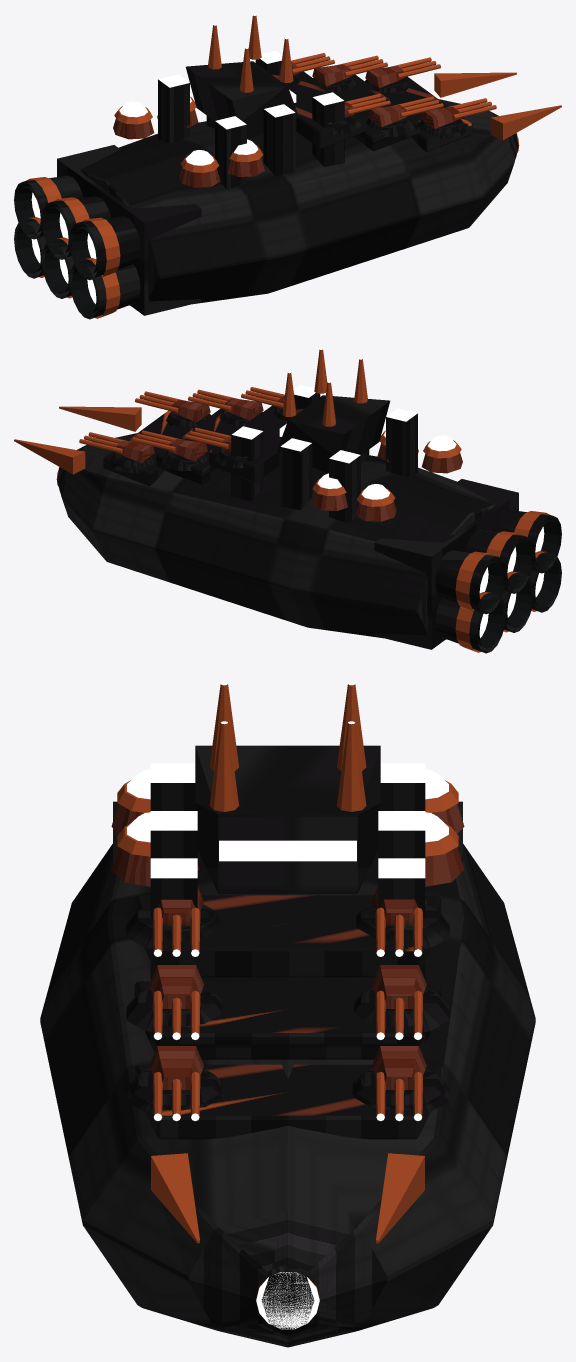
Rendered from dreadnought.glb.
The picture shows the model from 3 angles, top to bottom: view 1: azimuth 30°, elevation 25°; view 2: azimuth 150°, elevation 25°; view 3: azimuth 270°, elevation 25°; orthographic projection. The views are drawn at different scales.
Visible parts, largest first — view 1: hull_body, engine_block, weapon_turrets, sensor_tower, shield_domes; view 2: hull_body, engine_block, weapon_turrets, sensor_tower, shield_domes; view 3: hull_body, weapon_turrets, sensor_tower, shield_domes.
Part boxes in pixels (x1,y1,x2,y2): hull_body: [80, 50, 561, 305]; engine_block: [14, 145, 201, 319]; weapon_turrets: [272, 53, 519, 152]; sensor_tower: [185, 14, 298, 139]; shield_domes: [113, 96, 264, 187]; hull_body: [14, 384, 495, 639]; engine_block: [374, 479, 561, 653]; weapon_turrets: [56, 387, 303, 486]; sensor_tower: [277, 348, 390, 473]; shield_domes: [311, 430, 462, 521]; hull_body: [40, 763, 535, 1347]; weapon_turrets: [126, 886, 449, 1329]; sensor_tower: [195, 682, 380, 893]; shield_domes: [111, 769, 464, 886].
Bounding box in the file's own units: 80 × 38 × 35.53.
1 material, 1 textured.
